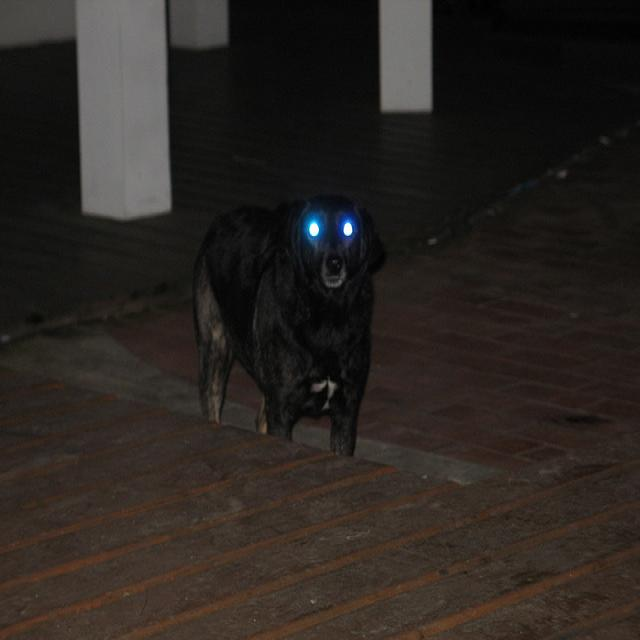Dog: (159, 188, 444, 462)
